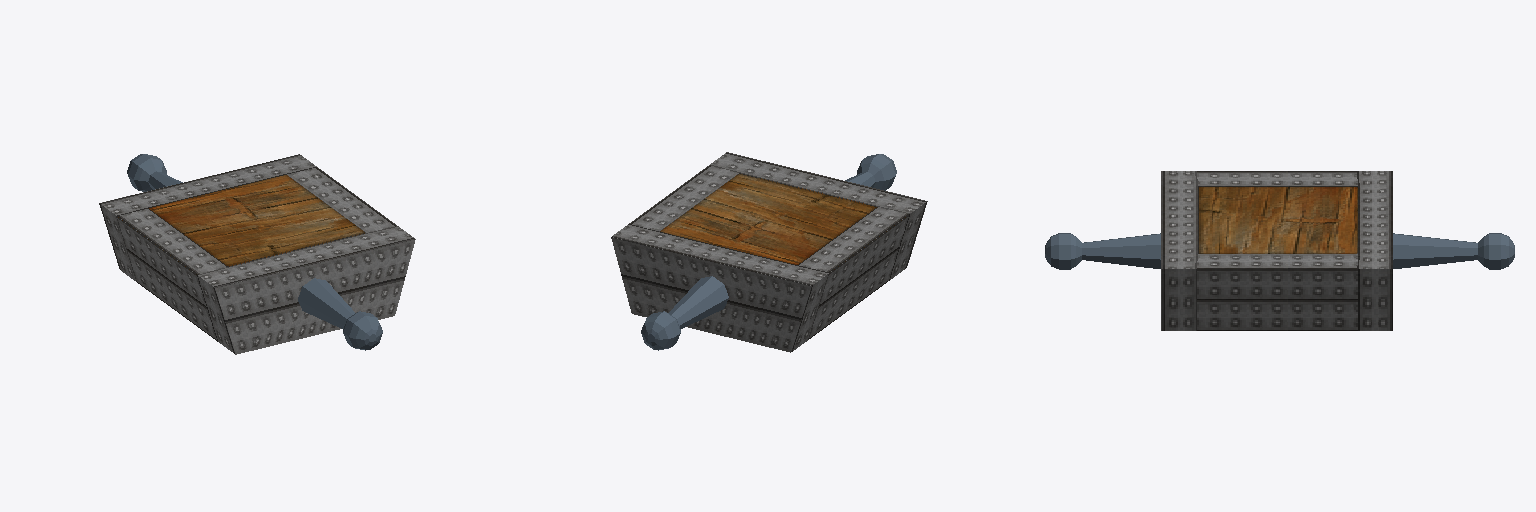
The picture shows the model from 3 angles: view 1: azimuth 30°, elevation 25°; view 2: azimuth 150°, elevation 25°; view 3: azimuth 270°, elevation 25°; orthographic projection.
Visible parts, largest first — view 1: P_Modul_41; view 2: P_Modul_41; view 3: P_Modul_41.
Part boxes in pixels (x1,y1,x2,y2): P_Modul_41: (99,154,415,354); P_Modul_41: (611,152,927,352); P_Modul_41: (1045,171,1514,330).
Size of the model in its own units: 5 by 1.71 by 10.15.
Materials: 3 (1 with a texture image).